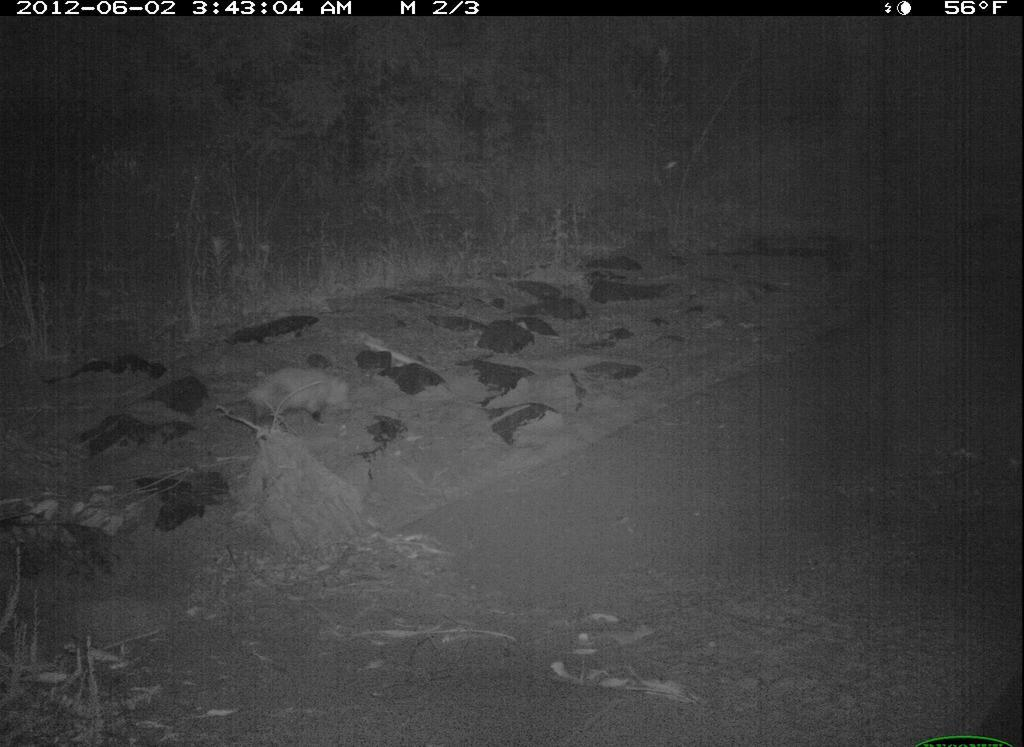opossum: (212, 364, 360, 432)
